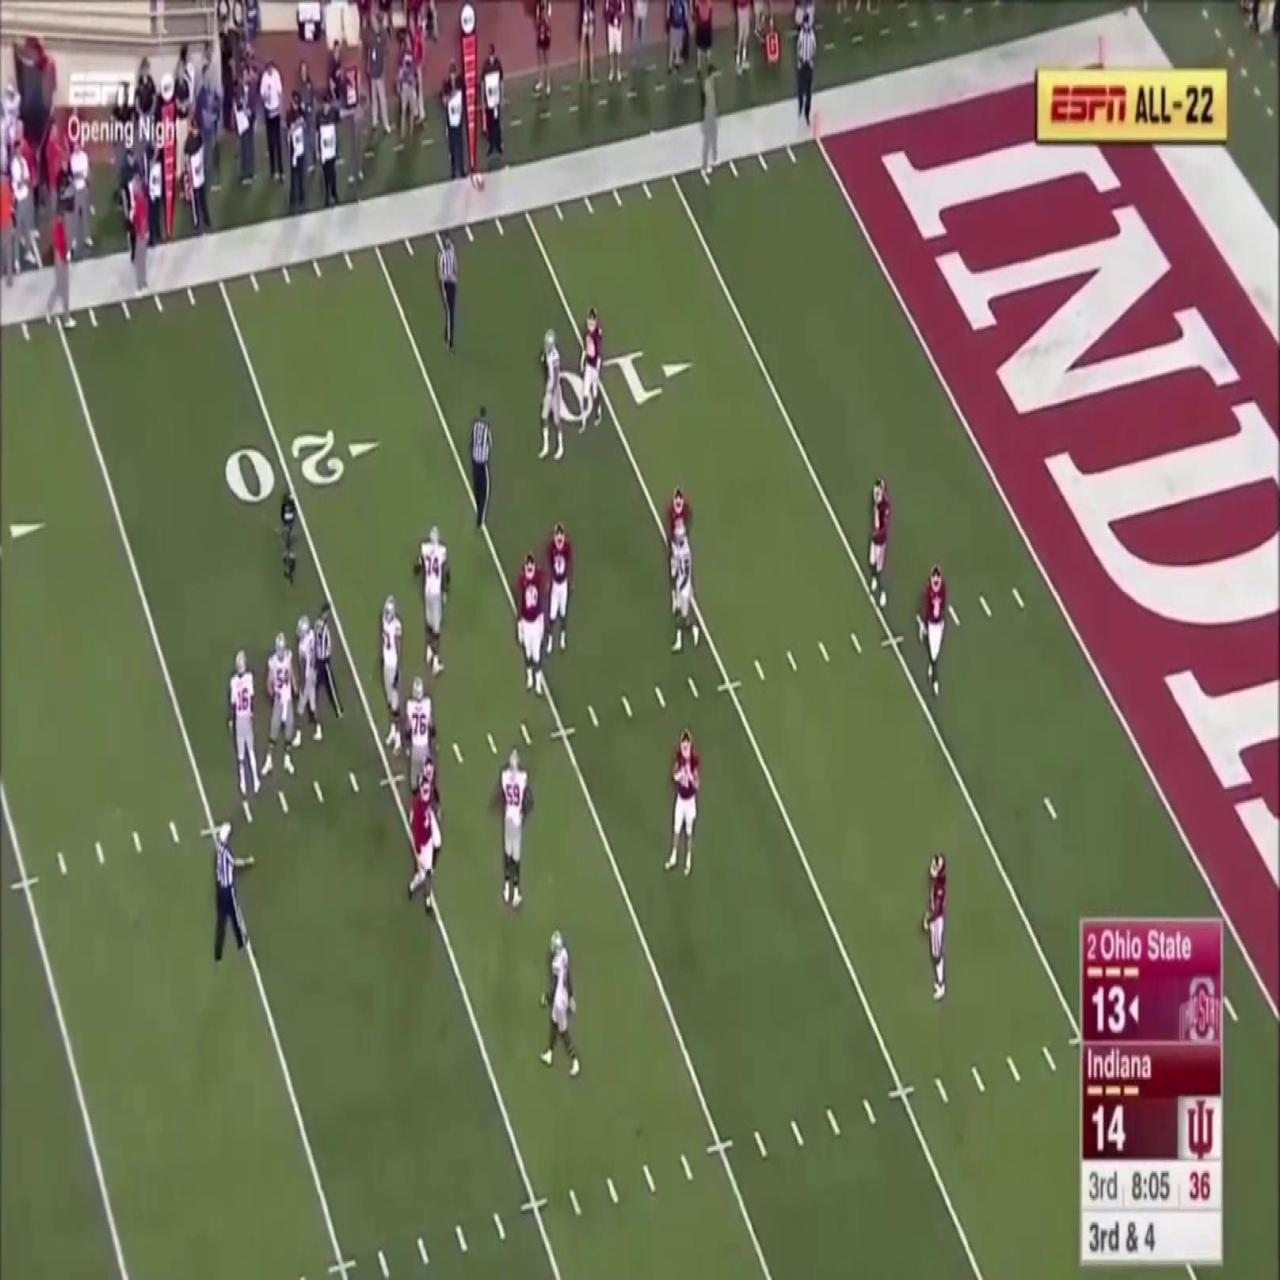10R: (551, 346, 693, 425)
20R: (224, 425, 381, 503)
